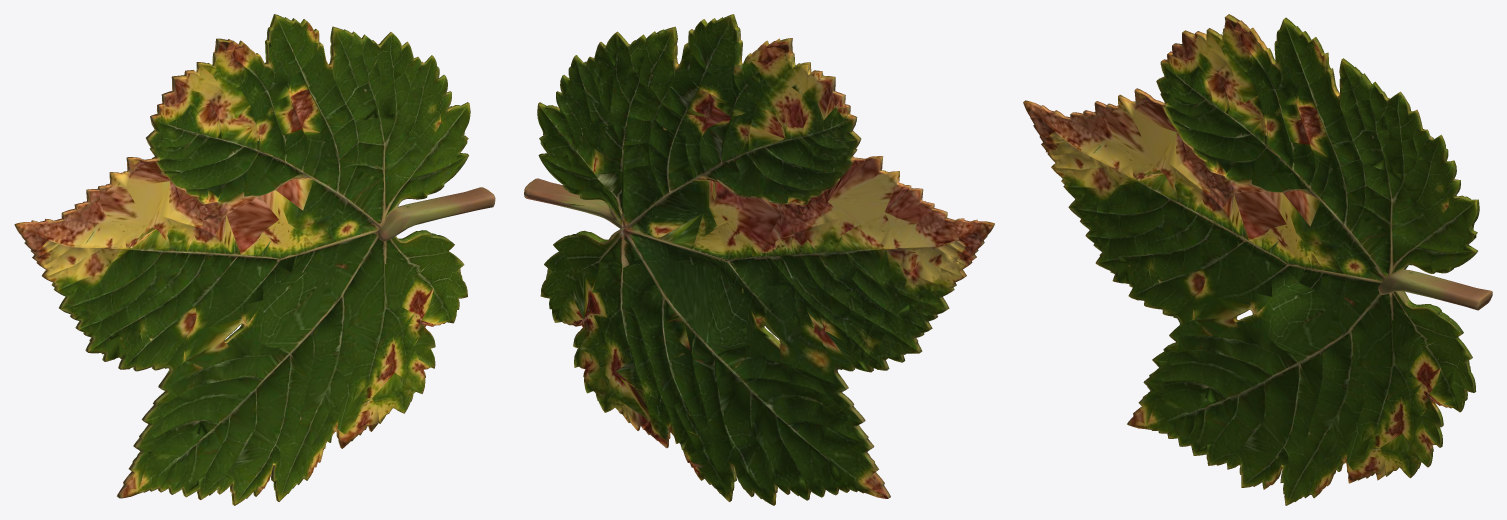
File: grape_leaf_blight.glb
The picture shows the model from 3 angles, left to right: view 1: azimuth 30°, elevation 25°; view 2: azimuth 150°, elevation 25°; view 3: azimuth 330°, elevation 25°; orthographic projection.
Parts seen in each view (by area): view 1: grape_leaf_blight; view 2: grape_leaf_blight; view 3: grape_leaf_blight.
Boxes of the visible parts, <box> form: grape_leaf_blight: <box>14,14,495,505</box>; grape_leaf_blight: <box>524,14,994,505</box>; grape_leaf_blight: <box>1023,14,1492,505</box>.
Bounding box in the file's own units: 1.01 × 1 × 0.0598.
1 material, 1 textured.
